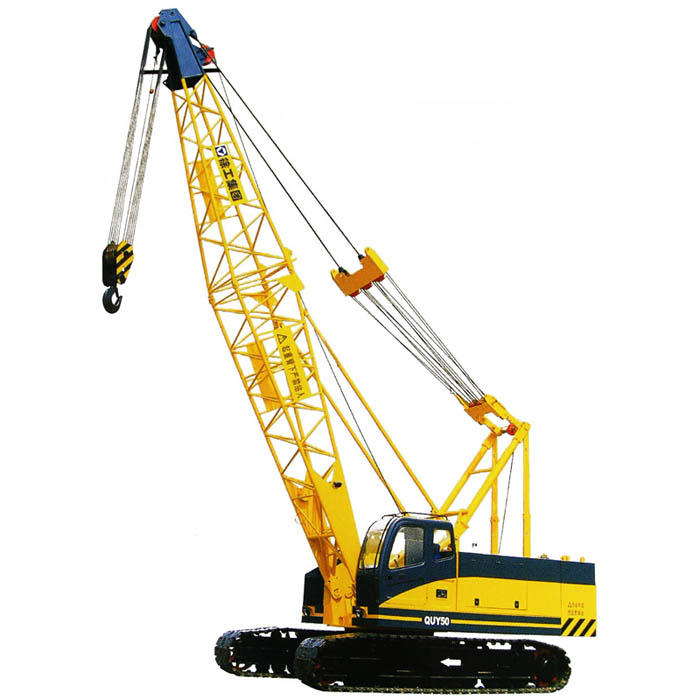crane: (99, 1, 604, 700)
